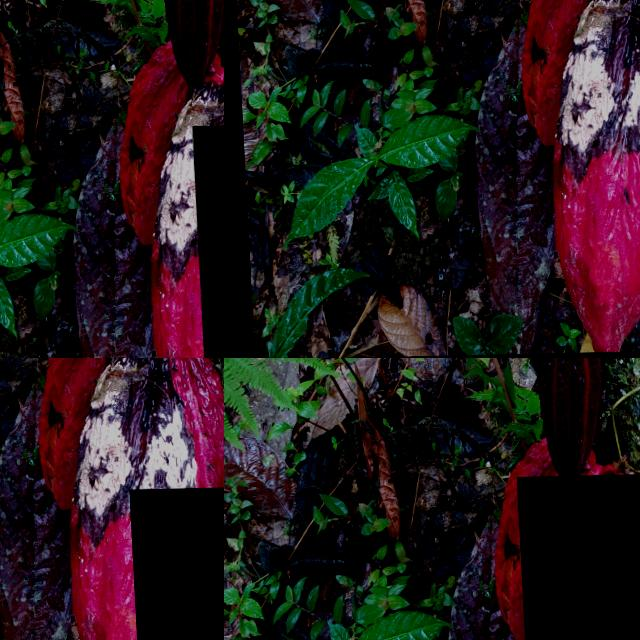Monilia: (513, 476, 640, 640)
Sana: (0, 358, 179, 640), (163, 358, 224, 640), (124, 488, 224, 640), (488, 443, 554, 640), (527, 358, 607, 492), (485, 3, 524, 122), (508, 214, 545, 289), (546, 311, 584, 355)
